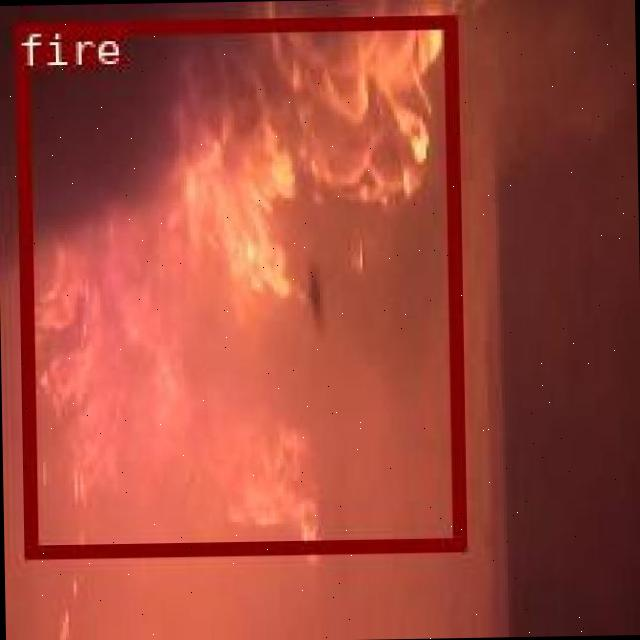fire: (13, 12, 464, 556)
